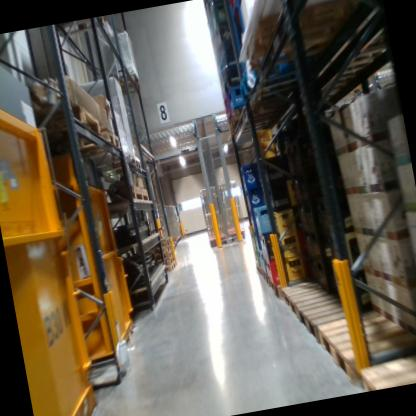pallet: (237, 0, 367, 77), (314, 291, 416, 374), (15, 89, 102, 149), (343, 345, 416, 391), (52, 119, 123, 160), (279, 275, 334, 327), (291, 296, 348, 344), (99, 186, 152, 217), (86, 150, 142, 178), (49, 18, 108, 38), (108, 62, 141, 94), (268, 269, 297, 302), (150, 252, 177, 268), (258, 262, 273, 289), (150, 235, 173, 251), (150, 242, 174, 255), (159, 259, 178, 273), (152, 248, 174, 260), (255, 261, 265, 282)
